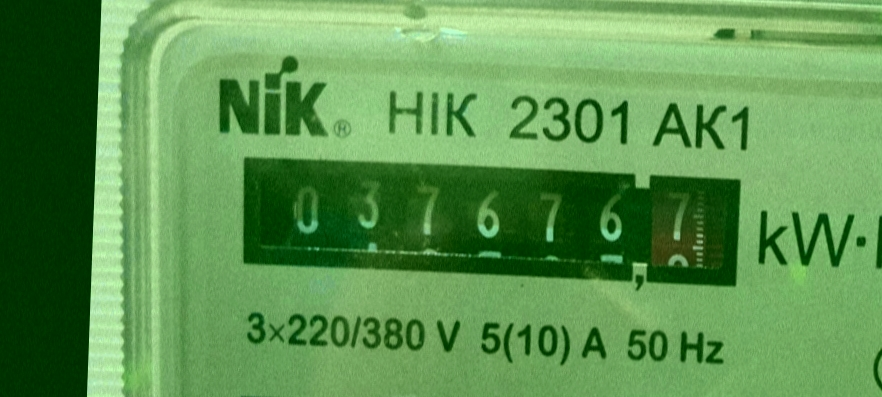0: (288, 180, 323, 236)
3: (351, 174, 381, 232)
6: (469, 184, 503, 239), (593, 188, 625, 243)
7: (531, 188, 564, 247), (408, 180, 441, 237), (661, 186, 691, 243)
screen: (222, 139, 755, 305)
